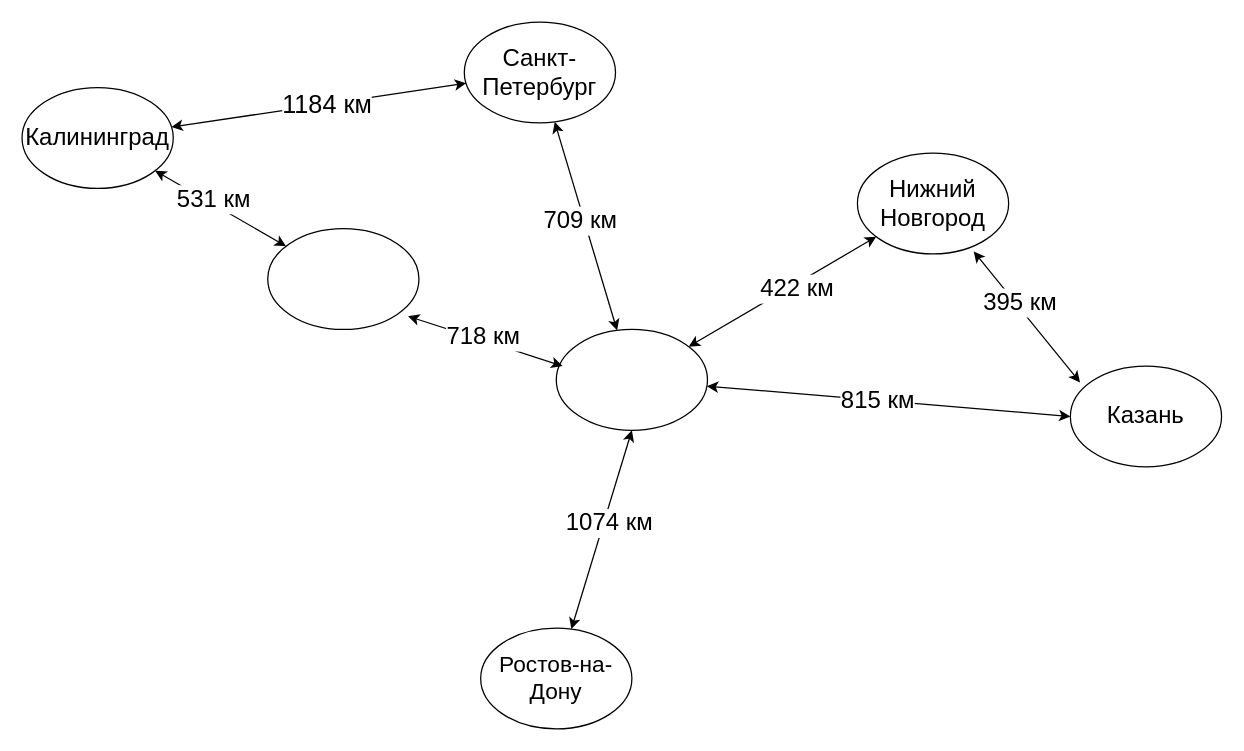
Image size: 1244x751. Some labels were removed from this diagram. Each missing label, with the centre of its shape:
"Минск" belongs at pixel 342 278.
"Москва" belongs at pixel 631 379.
